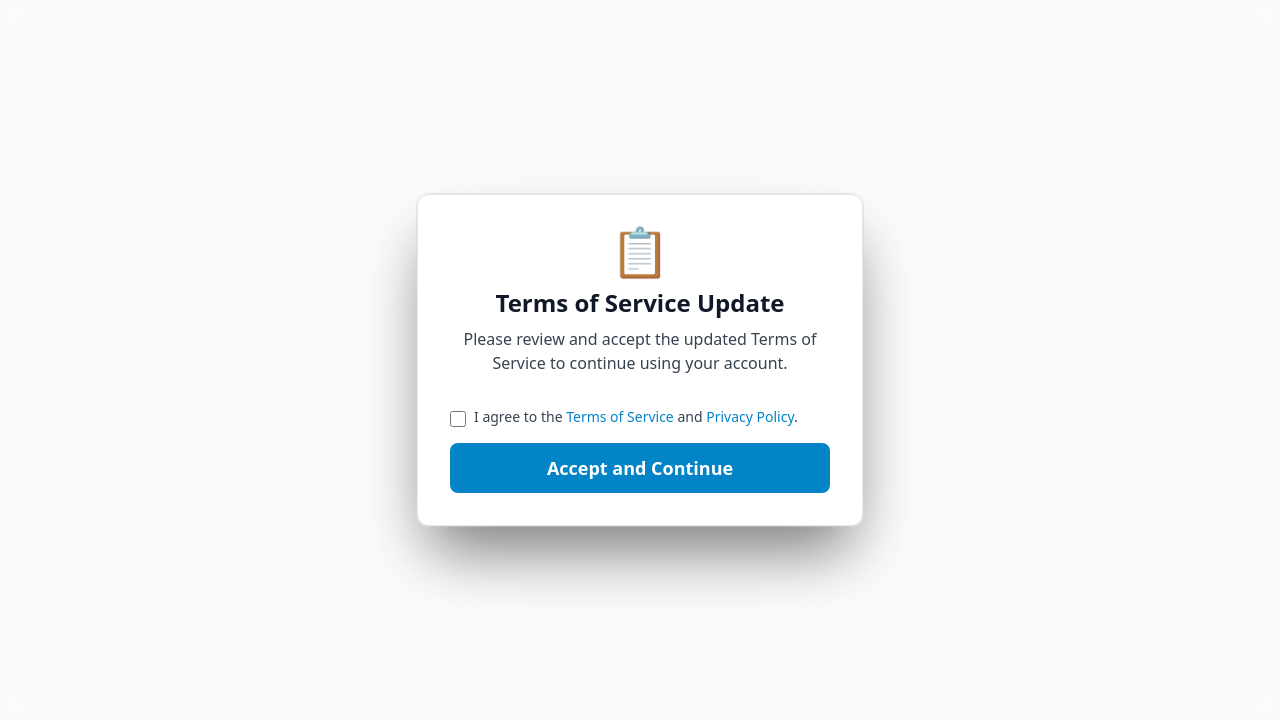
Test case: TosAcceptanceModal Component › should show error when submitting without accepting ToS
What coordinates should you click on to do the following:
click the button "Accept and Continue"
I would click on:
 (640, 468)
Its box is [450,443,830,493].
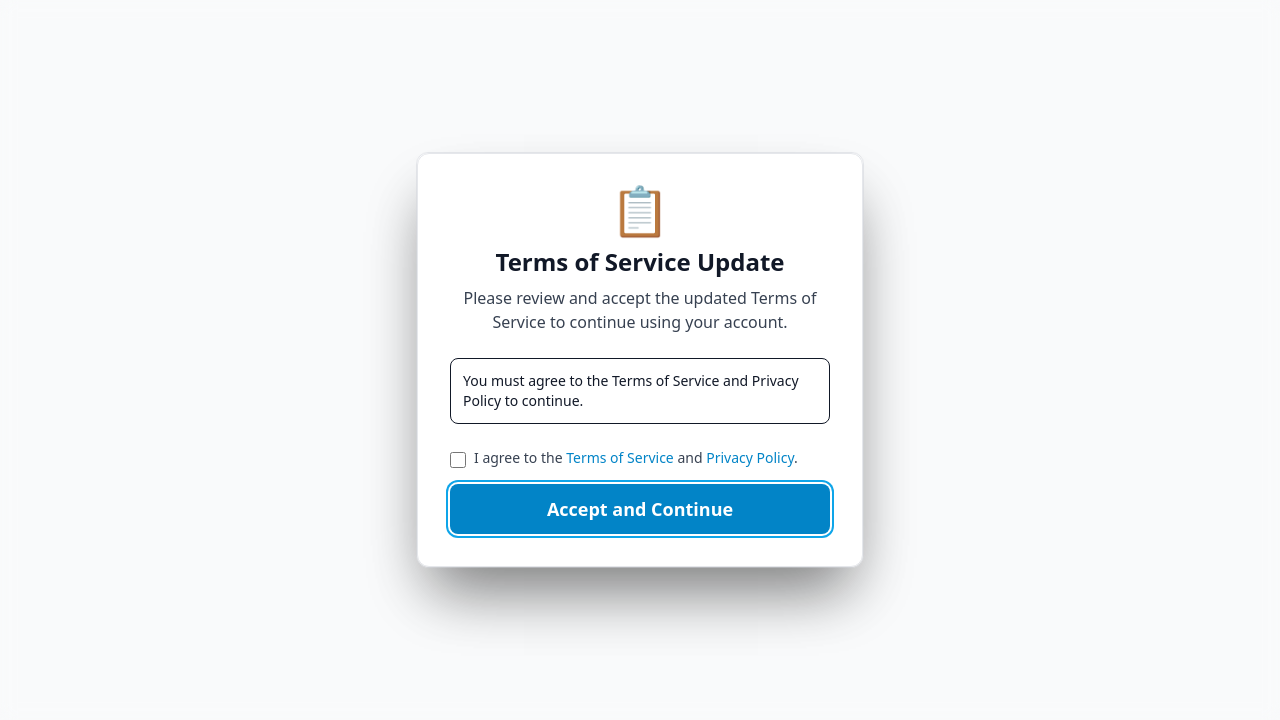
Expected: the text "You must agree to the Terms of Service and Privacy Policy" is shown, [463,371,799,410]
